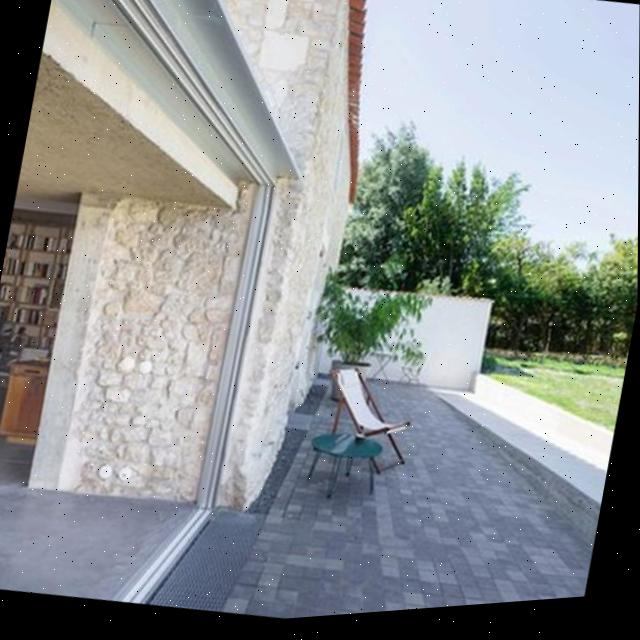building: (0, 0, 399, 559)
